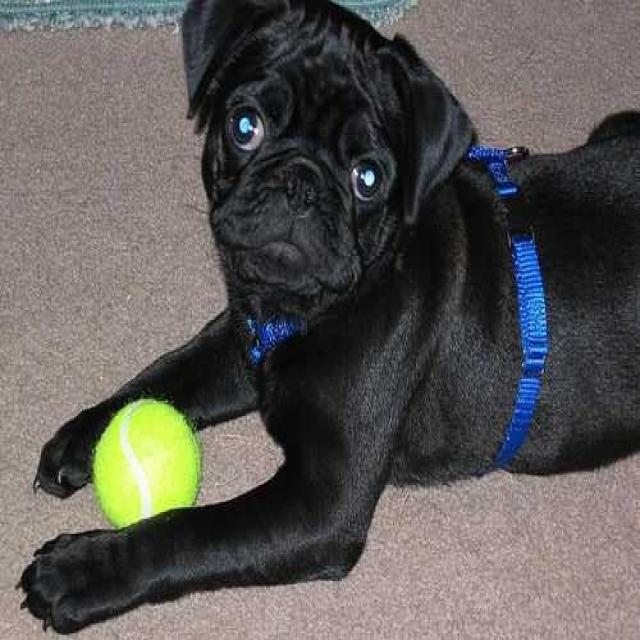Tennis_Ball: (98, 400, 200, 528)
